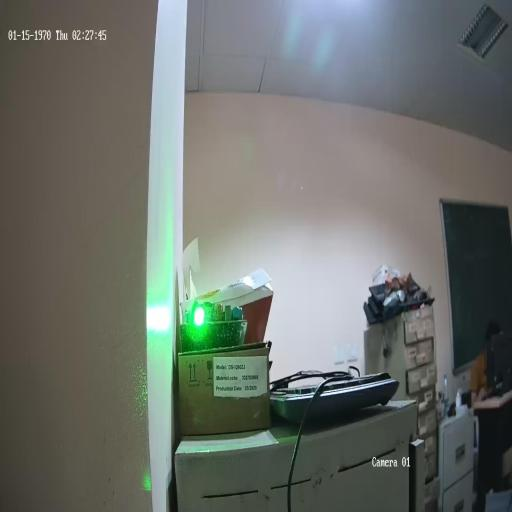laser: (191, 300, 208, 332)
